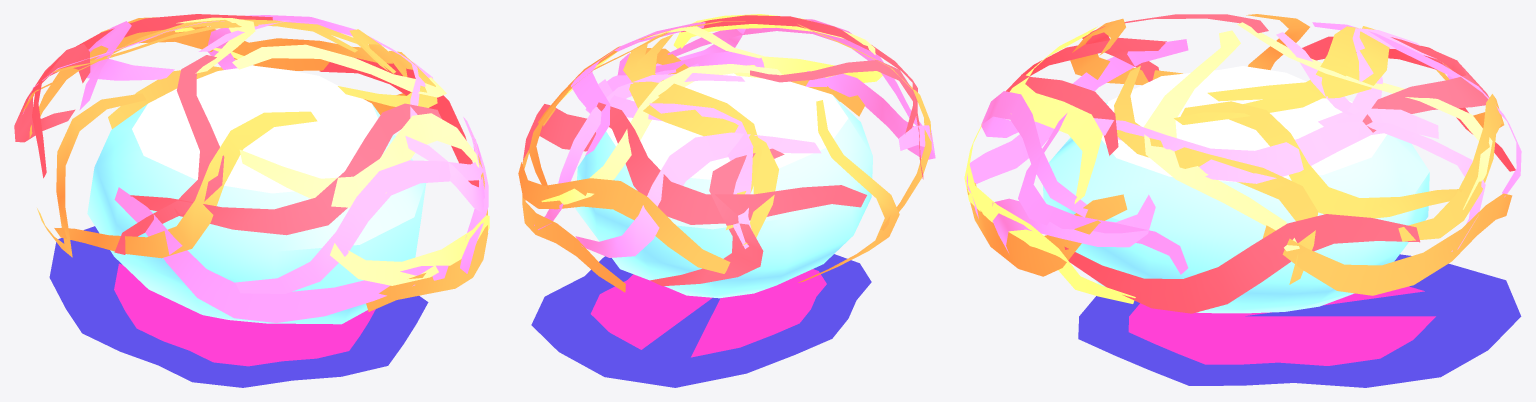
File: supernova_remnant.glb
3 views of the same model, side by side, from view 1: azimuth 30°, elevation 25°; view 2: azimuth 150°, elevation 25°; view 3: azimuth 270°, elevation 25° (orthographic). The views are drawn at different scales.
Visible parts, largest first — view 1: shell, body; view 2: shell, body; view 3: shell, body.
Boxes of the visible parts, box(x1,y1,x2,y2) form: shell: box(14, 14, 489, 322); body: box(49, 66, 428, 387); shell: box(518, 14, 935, 292); body: box(531, 73, 872, 387); shell: box(964, 14, 1521, 313); body: box(1043, 66, 1521, 387).
Size of the model in its own units: 172 by 114 by 211.
